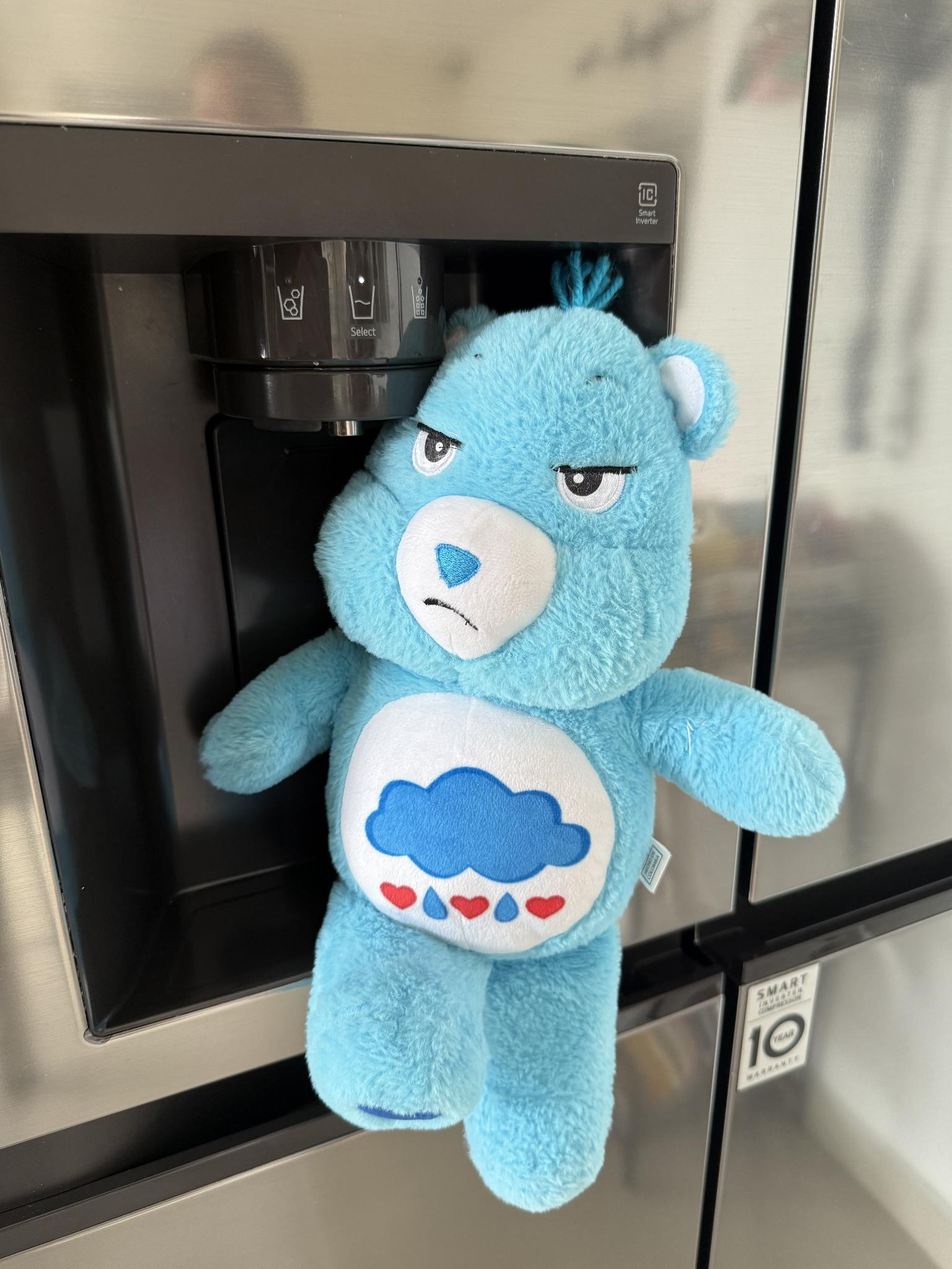peluche_Juan Jose: (197, 247, 844, 1212)
